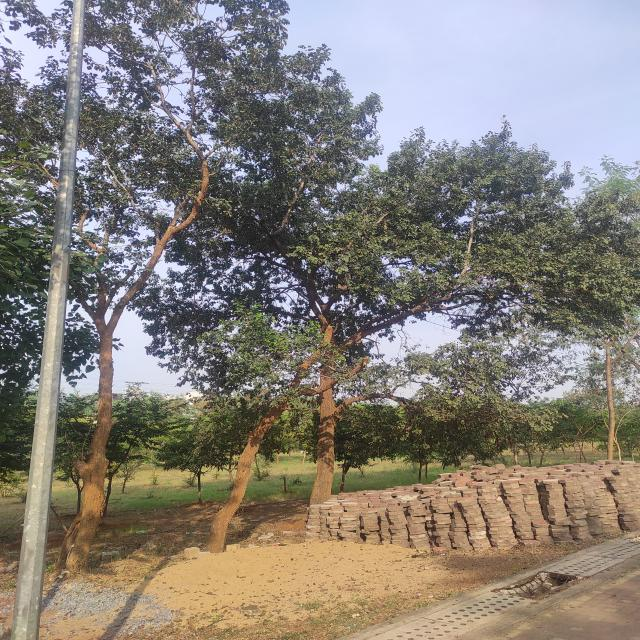Devakanchan tree: (1, 1, 640, 341)
